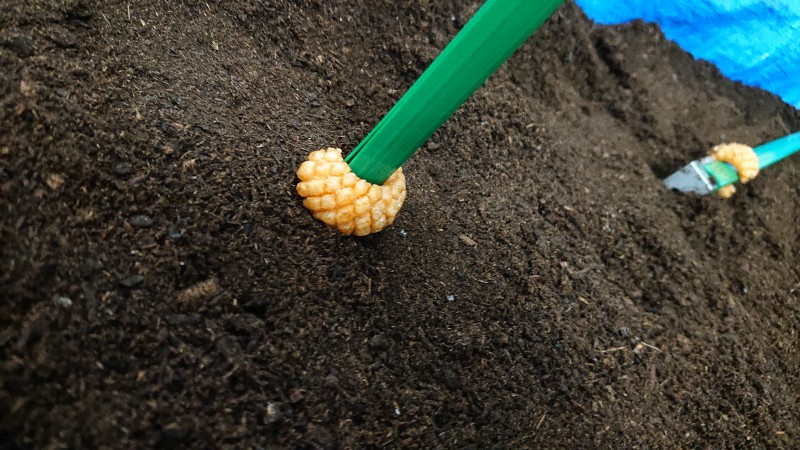eggs: (290, 138, 413, 239), (704, 134, 763, 201)
